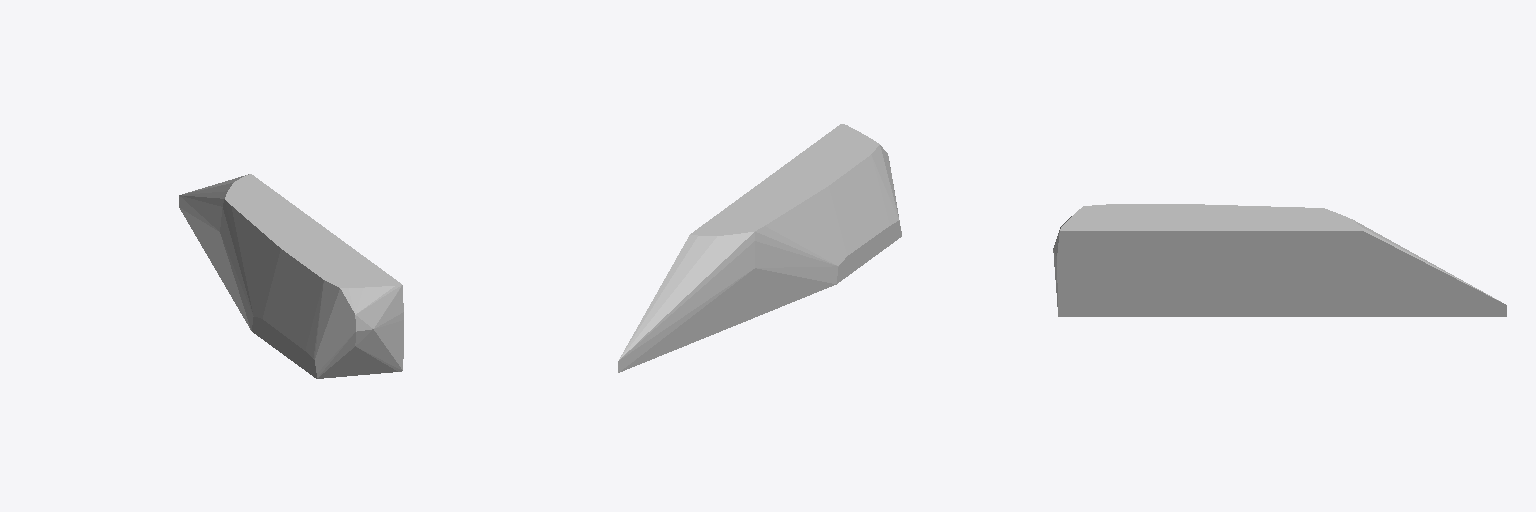
File: ShipScene_collision_25.obj
The picture shows the model from 3 angles: view 1: azimuth 30°, elevation 25°; view 2: azimuth 150°, elevation 25°; view 3: azimuth 270°, elevation 25°; orthographic projection.
Bounding box in the file's own units: 15.02 × 16.95 × 80.84.